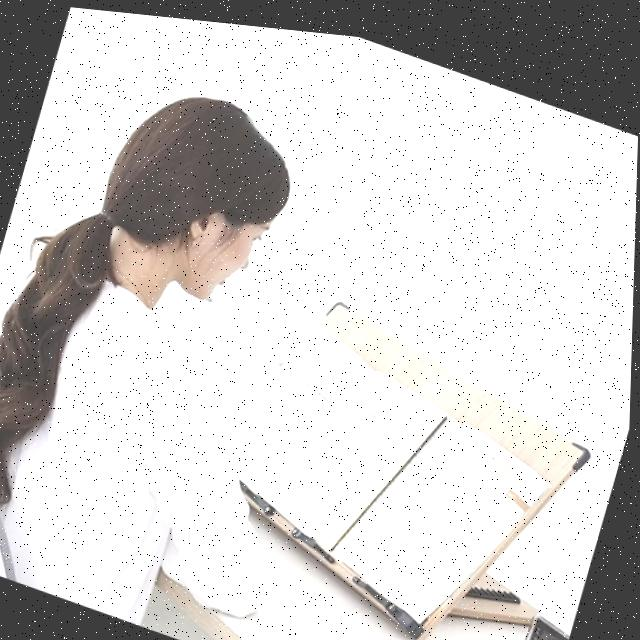studying-person: (0, 12, 564, 640)
